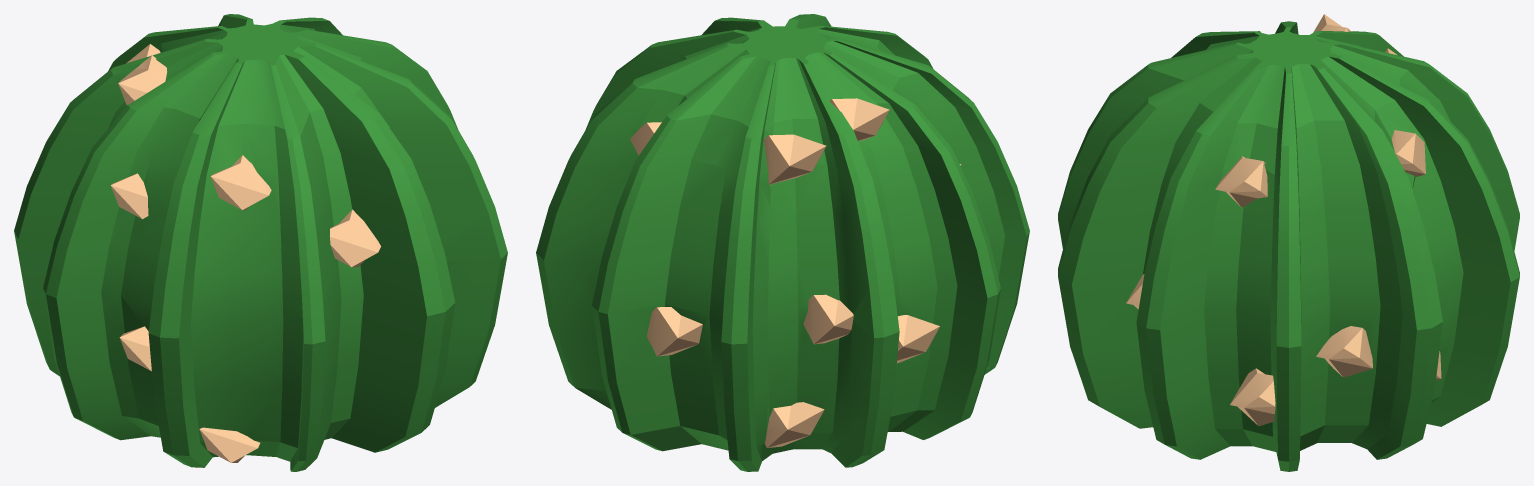
File: Cactus_04.fbx
3 renders of one model, left to right at view 1: azimuth 30°, elevation 25°; view 2: azimuth 150°, elevation 25°; view 3: azimuth 270°, elevation 25°, orthographic. The views are drawn at different scales.
Visible parts, largest first — view 1: Cactus_04; view 2: Cactus_04; view 3: Cactus_04.
Part boxes in pixels (bbox=[...]): Cactus_04: bbox=[14, 14, 507, 471]; Cactus_04: bbox=[536, 14, 1029, 471]; Cactus_04: bbox=[1058, 14, 1519, 471].
Size of the model in its own units: 26.46 by 21.11 by 25.17.
